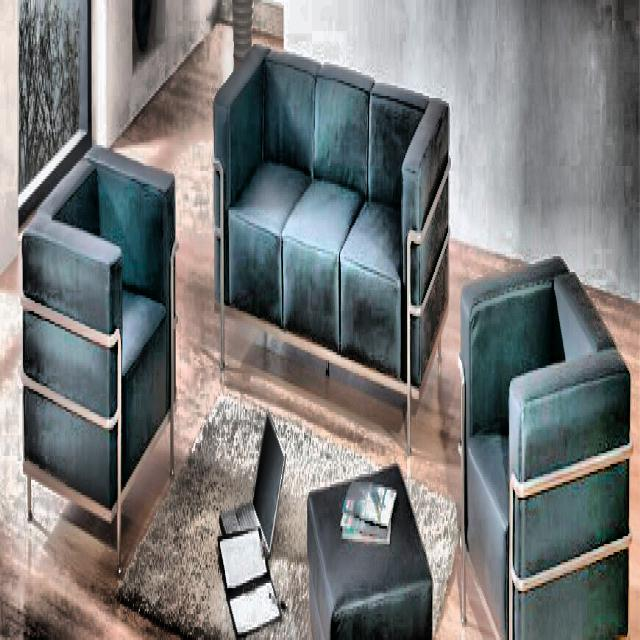sofa: (212, 44, 450, 446), (21, 142, 178, 572), (457, 254, 633, 637)
